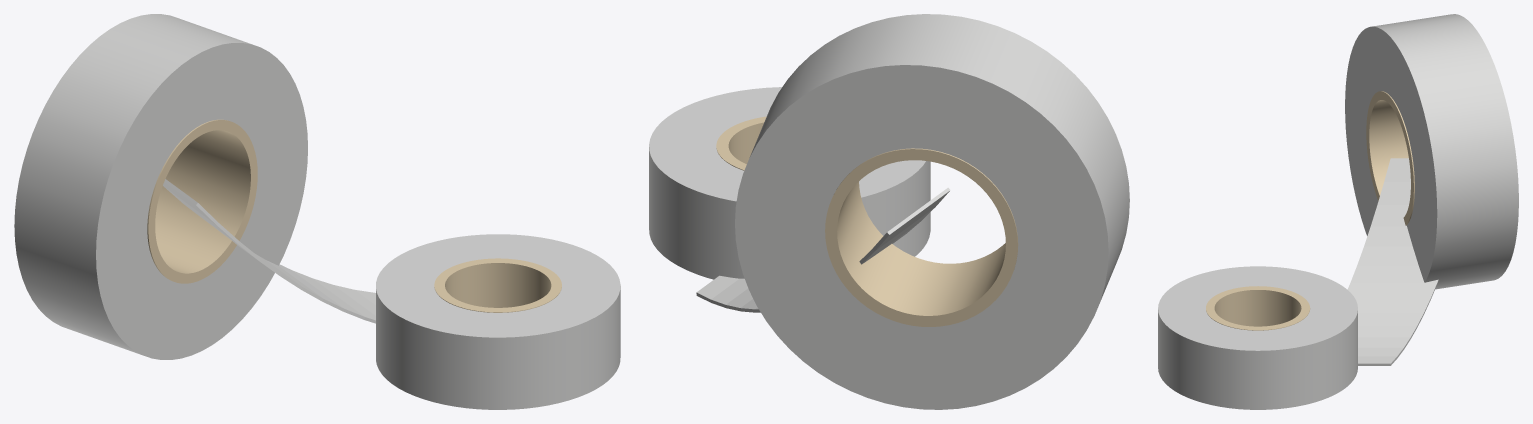
File: reward-tape-white.glb
The picture shows the model from 3 angles, left to right: view 1: azimuth 30°, elevation 25°; view 2: azimuth 150°, elevation 25°; view 3: azimuth 270°, elevation 25°; orthographic projection. The views are drawn at different scales.
Parts seen in each view (by area): view 1: roll.001, roll2.001, core, core2, strip; view 2: roll.001, roll2.001, core, strip, core2; view 3: roll.001, roll2.001, strip, core2, core.
Boxes of the visible parts, box(x1,y1,x2,y2) form: roll.001: box(14, 14, 307, 359); roll2.001: box(376, 234, 620, 409); core: box(147, 119, 257, 283); core2: box(434, 258, 561, 312); strip: box(163, 179, 375, 323); roll.001: box(735, 14, 1129, 409); roll2.001: box(649, 87, 930, 279); core: box(825, 148, 1018, 326); strip: box(696, 187, 950, 312); core2: box(716, 116, 766, 170); roll.001: box(1345, 14, 1518, 289); roll2.001: box(1158, 266, 1357, 409); strip: box(1347, 158, 1438, 365); core2: box(1206, 286, 1310, 330); core: box(1366, 91, 1414, 225).
Bounding box in the file's own units: 3.17 × 1.86 × 2.49.
